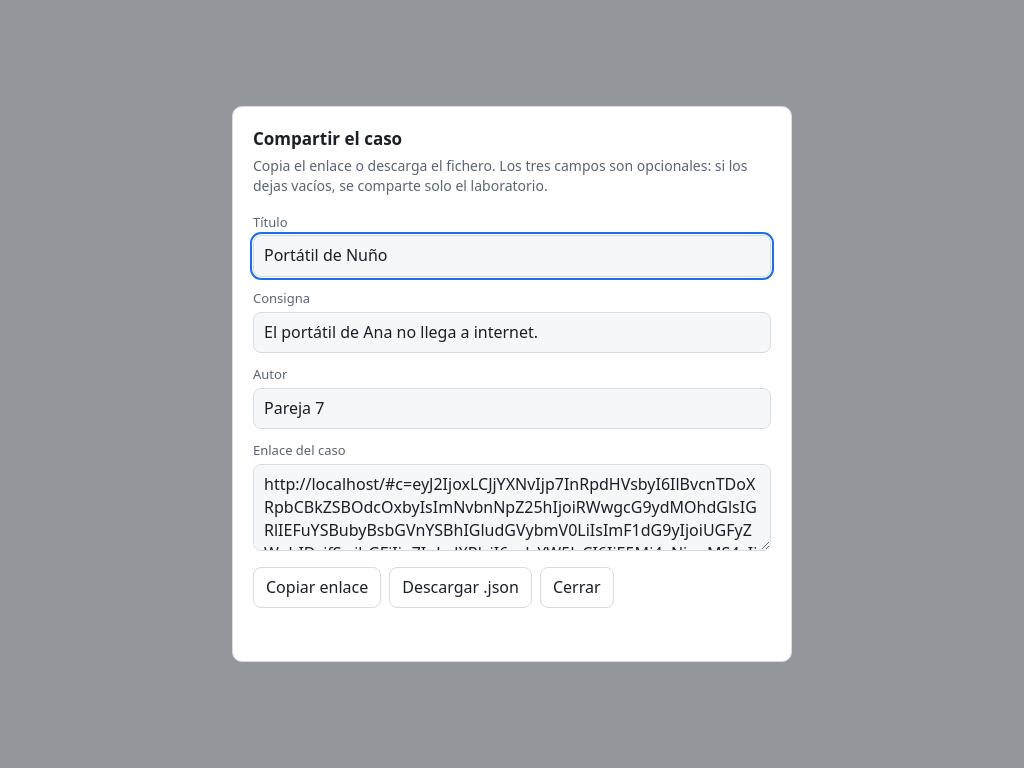
it: ExportDialog: copying tells the truth (S52) › asks for Ctrl+C when neither path could copy, and leaves the link selected
Click the button "Copiar enlace" at (317,588), box [253, 567, 381, 608]
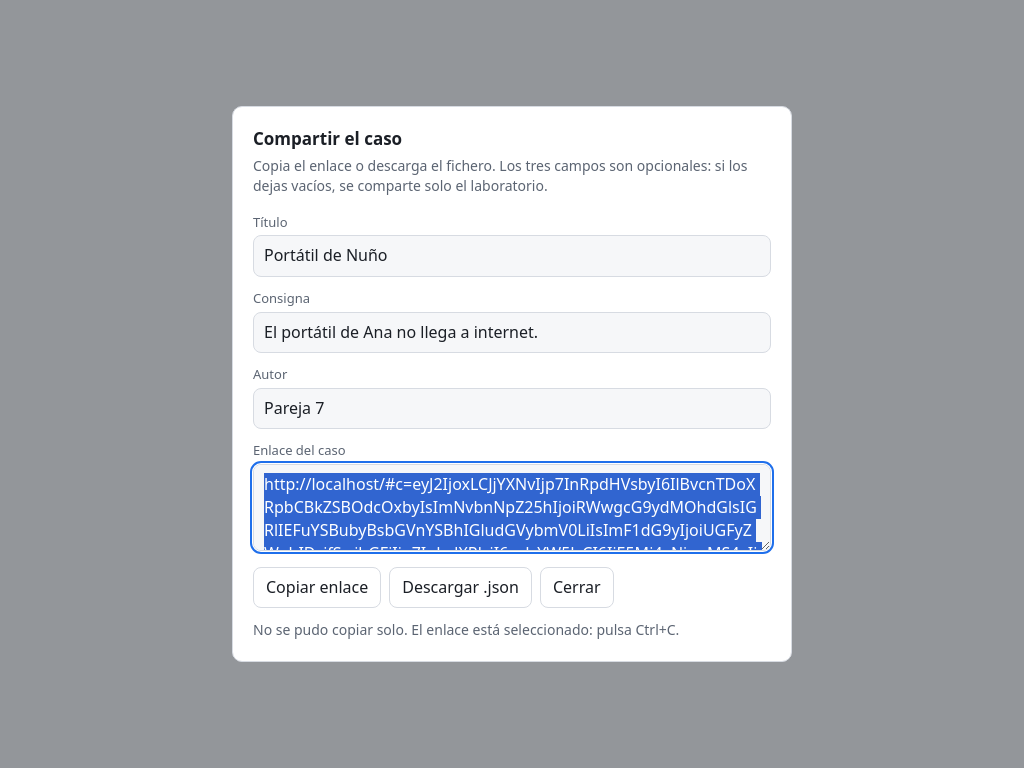
Now the message reads "No se pudo copiar solo. El enlace está seleccionado: pulsa Ctrl+C.", box [253, 620, 679, 639]
